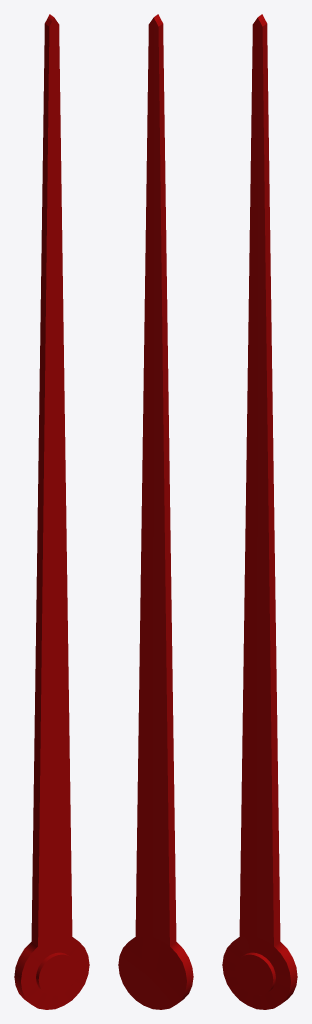
The model's file is Niddle.gltf.
The picture shows the model from 3 angles, left to right: view 1: azimuth 30°, elevation 25°; view 2: azimuth 150°, elevation 25°; view 3: azimuth 330°, elevation 25°; orthographic projection.
Visible parts, largest first — view 1: Big_Pin; view 2: Big_Pin; view 3: Big_Pin.
Boxes of the visible parts, x1,y1,x2,y2 form: Big_Pin: (14,14,89,1009); Big_Pin: (118,14,193,1009); Big_Pin: (222,14,297,1009).
Bounding box in the file's own units: 1.05 × 14.52 × 0.251.
